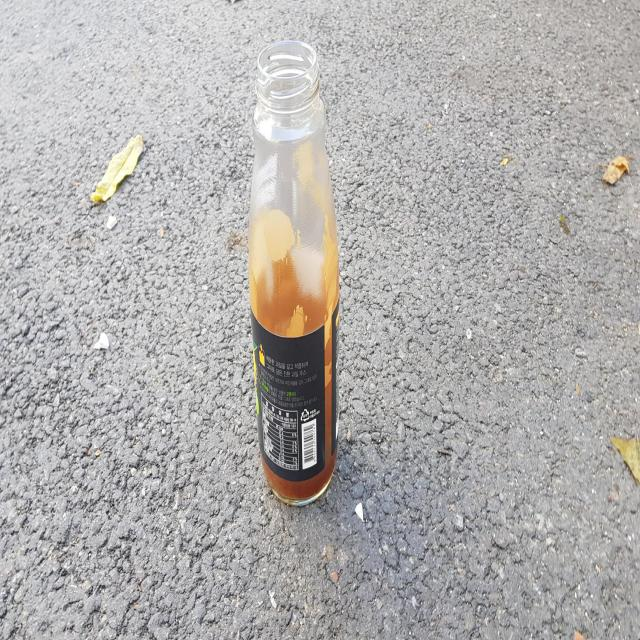glass: (249, 40, 340, 505)
